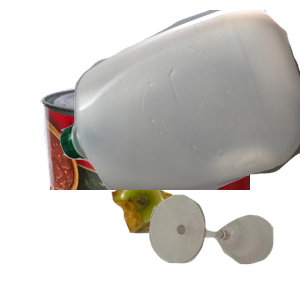glass: (147, 192, 300, 300)
metal: (37, 81, 277, 261)
plastic: (60, 10, 300, 190)
trash: (109, 175, 279, 300)
